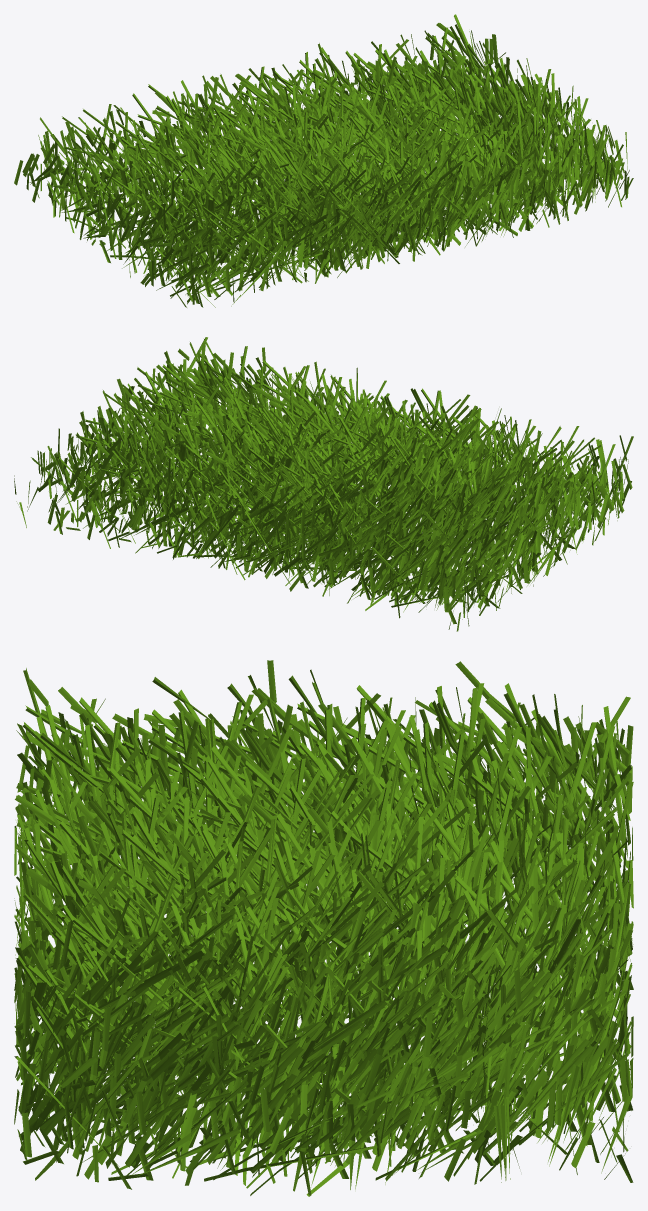
File: grass-block.glb
The picture shows the model from 3 angles, top to bottom: view 1: azimuth 30°, elevation 25°; view 2: azimuth 150°, elevation 25°; view 3: azimuth 270°, elevation 25°; orthographic projection. The views are drawn at different scales.
Parts seen in each view (by area): view 1: imagetostl_mesh0; view 2: imagetostl_mesh0; view 3: imagetostl_mesh0.
Boxes of the visible parts, bbox=[...] form: imagetostl_mesh0: bbox=[14, 14, 633, 307]; imagetostl_mesh0: bbox=[14, 337, 633, 631]; imagetostl_mesh0: bbox=[14, 660, 633, 1196].
Bounding box in the file's own units: 38.74 × 6.01 × 25.05.
